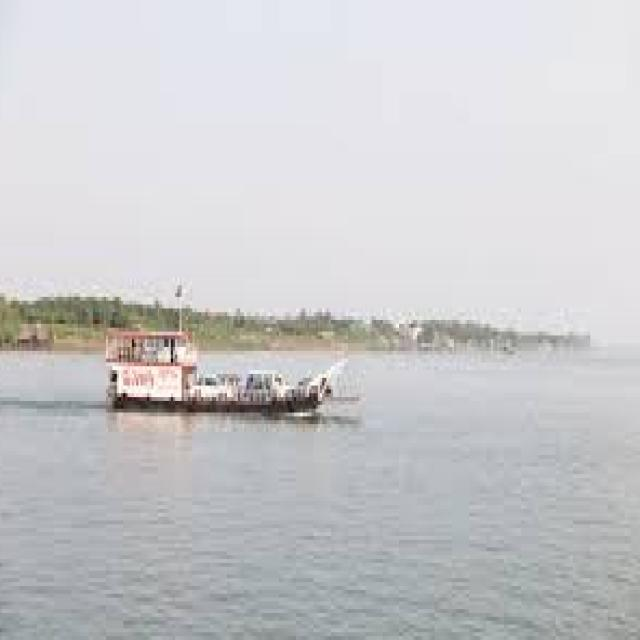cargoship: (96, 296, 351, 426)
